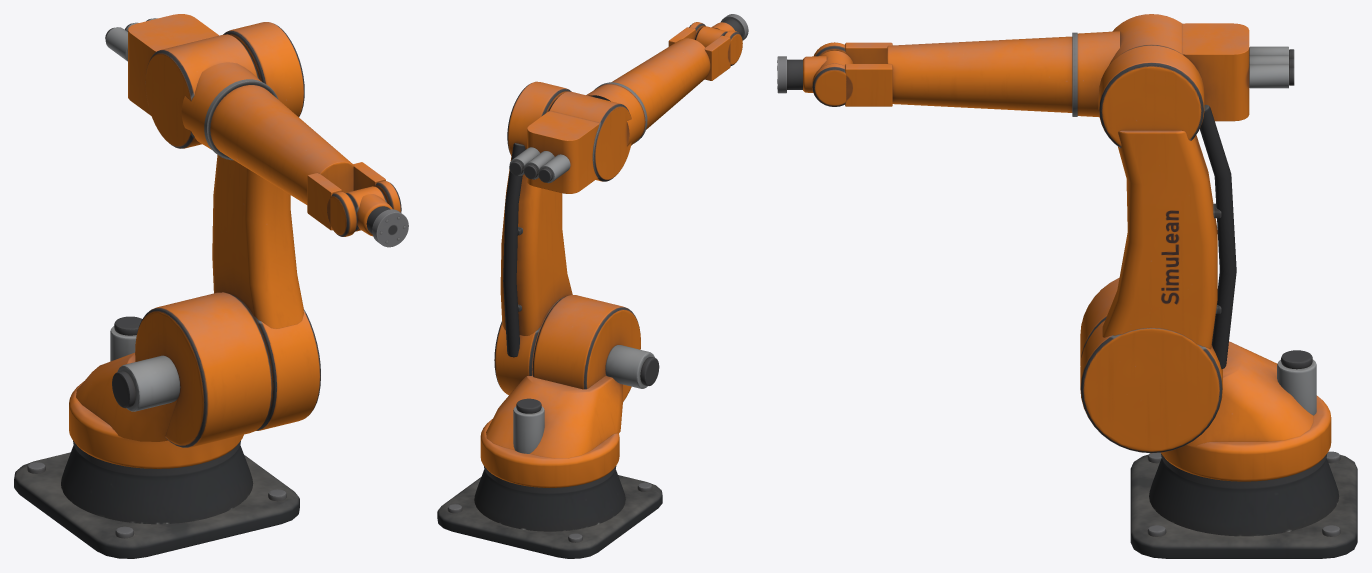
Rendered from IndustrialRobot.fbx.
The picture shows the model from 3 angles, left to right: view 1: azimuth 30°, elevation 25°; view 2: azimuth 150°, elevation 25°; view 3: azimuth 270°, elevation 25°; orthographic projection. The views are drawn at different scales.
Parts seen in each view (by area): view 1: A1_LOD0, A2_LOD0, Base_LOD0, A3_LOD0, A4_LOD0, A6_LOD0, A5_LOD0; view 2: A1_LOD0, A2_LOD0, Base_LOD0, A3_LOD0, A4_LOD0, A5_LOD0; view 3: A2_LOD0, Base_LOD0, A1_LOD0, A4_LOD0, A3_LOD0, A5_LOD0, A6_LOD0.
Part boxes in pixels (x1=…): A1_LOD0: x1=69, y1=292, x2=272, y2=475; A2_LOD0: x1=212, y1=22, x2=320, y2=430; Base_LOD0: x1=14, y1=445, x2=299, y2=558; A3_LOD0: x1=105, y1=14, x2=278, y2=160; A4_LOD0: x1=210, y1=85, x2=401, y2=236; A6_LOD0: x1=366, y1=206, x2=408, y2=247; A5_LOD0: x1=346, y1=186, x2=392, y2=236; A1_LOD0: x1=480, y1=295, x2=659, y2=493; A2_LOD0: x1=494, y1=81, x2=572, y2=394; Base_LOD0: x1=437, y1=469, x2=662, y2=558; A3_LOD0: x1=509, y1=82, x2=647, y2=193; A4_LOD0: x1=611, y1=22, x2=742, y2=129; A5_LOD0: x1=695, y1=22, x2=734, y2=47; A2_LOD0: x1=1080, y1=45, x2=1236, y2=453; Base_LOD0: x1=1130, y1=451, x2=1357, y2=558; A1_LOD0: x1=1080, y1=277, x2=1331, y2=488; A4_LOD0: x1=812, y1=36, x2=1072, y2=112; A3_LOD0: x1=1072, y1=14, x2=1294, y2=121; A5_LOD0: x1=803, y1=50, x2=853, y2=92; A6_LOD0: x1=777, y1=56, x2=802, y2=93.
Size of what is drawn, in the model's own units: 0.86 by 2.03 by 2.2.
Materials: 1 (1 with a texture image).
